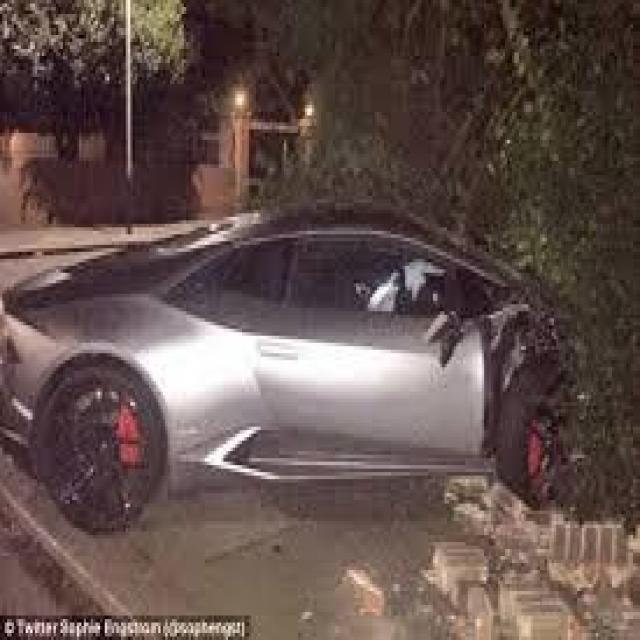damaged: (426, 238, 594, 462)
